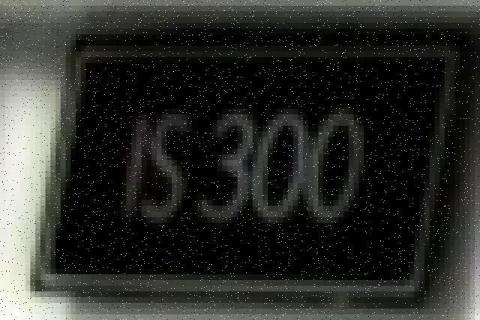LicensePlate: (21, 11, 468, 317)
